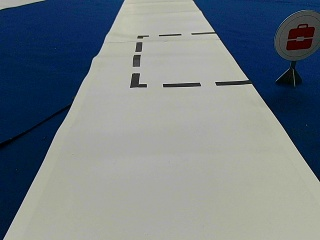company: (275, 9, 318, 59)
